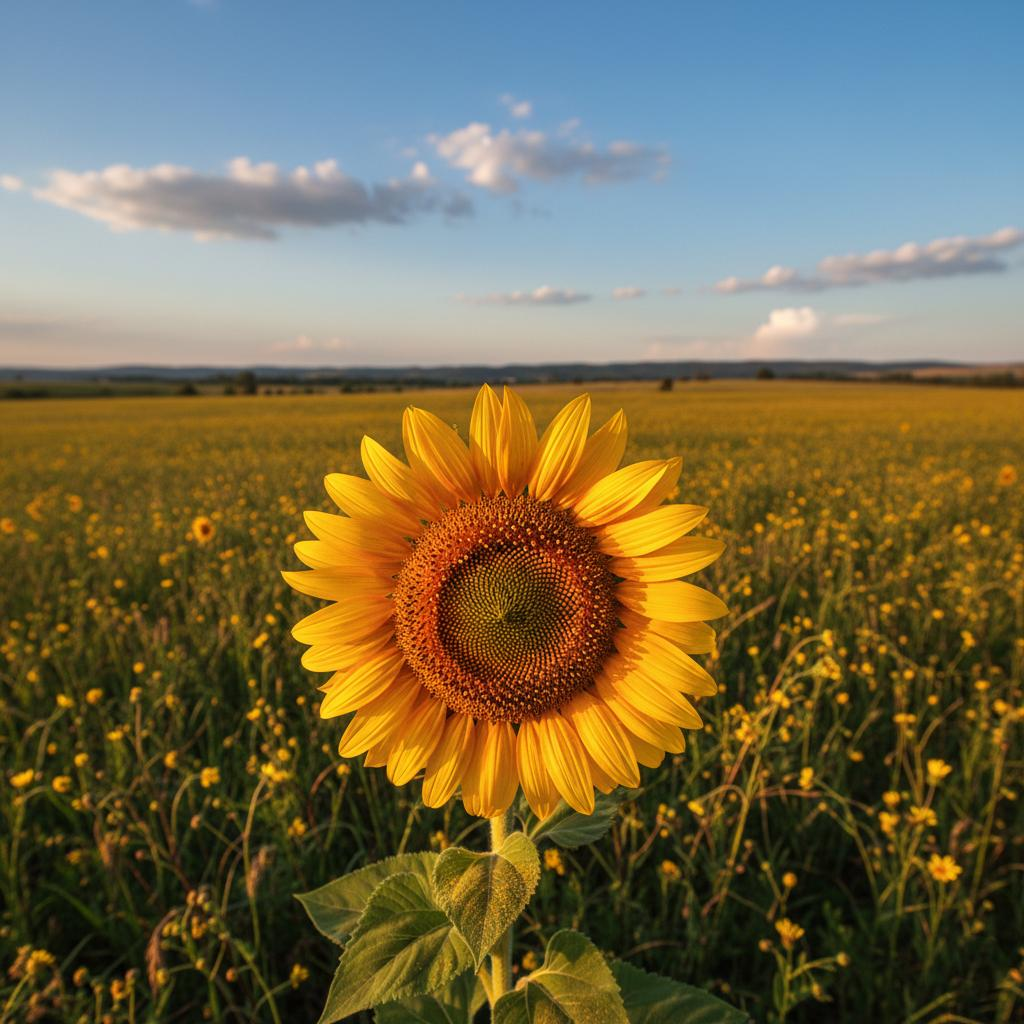sunflower: (279, 381, 729, 822)
